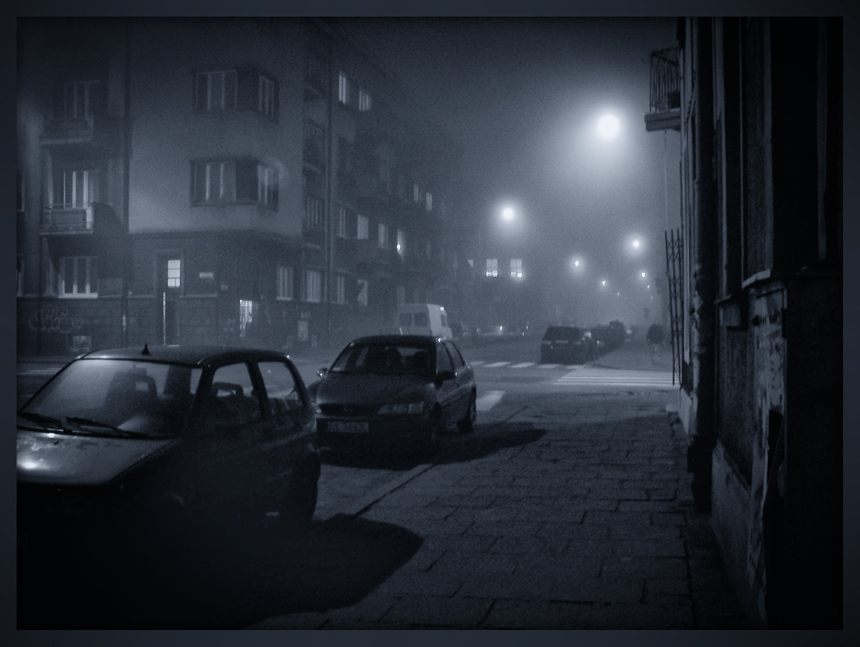car: (536, 321, 599, 370)
